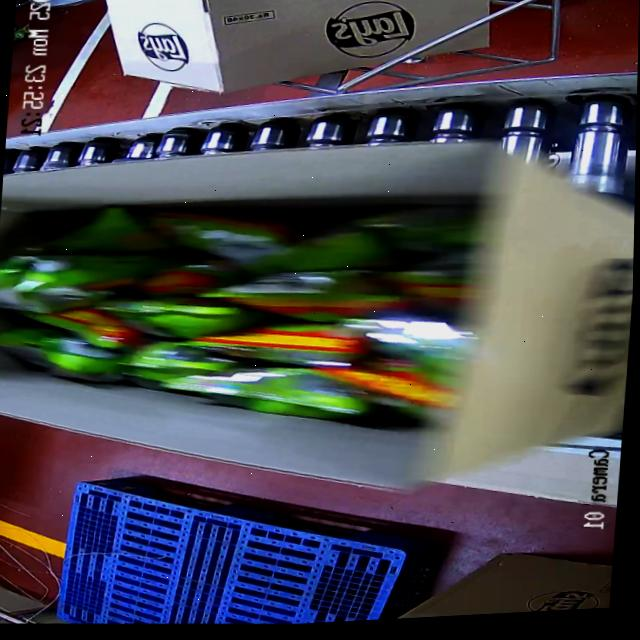YOGURT_HERB: (0, 172, 451, 439)
